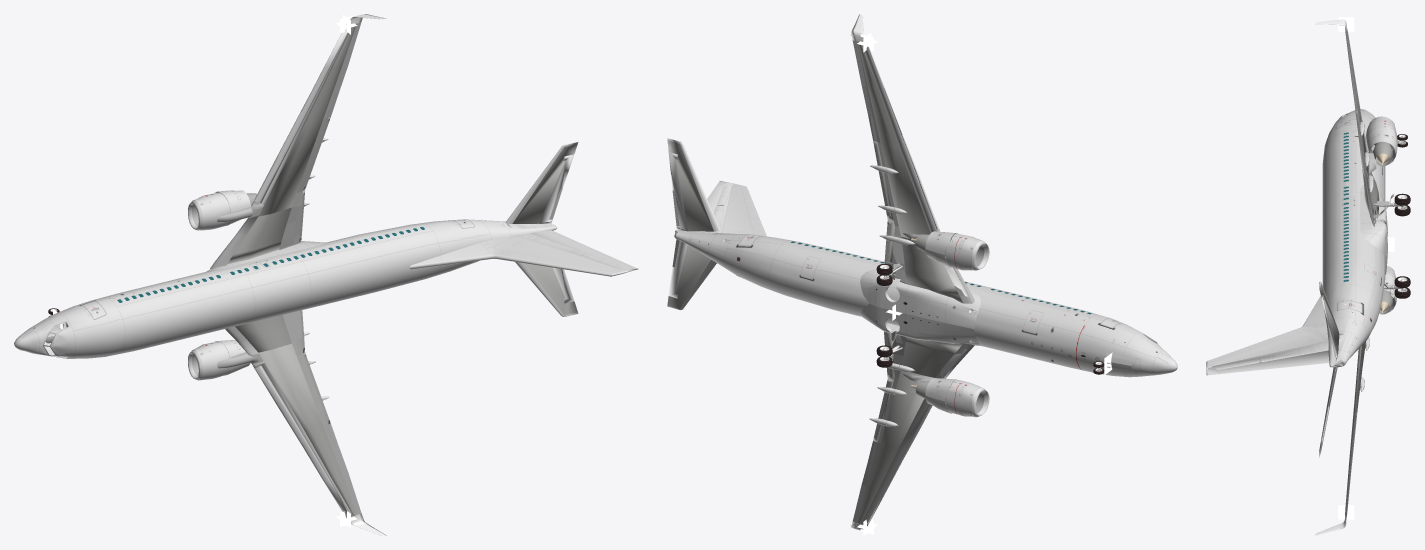
3 views of the same model, side by side, from view 1: azimuth 30°, elevation 25°; view 2: azimuth 150°, elevation 25°; view 3: azimuth 270°, elevation 25° (orthographic). The views are drawn at different scales.
Visible parts, largest first — view 1: fuselage, obwing, vstab, obwing.001, rhstab, winginbd.001, winginbd, lhstab, vstable, engnose.001, No2engfancase, rudder (+1 smaller); view 2: fuselage, obwing.001, rhwtobfairing, obwing, lhfairing, rhstab, vstab, winginbd.001, winginbd, lhstab, rhoble, oble (+6 smaller); view 3: fuselage, vstab, rudder, rhwtobfairing, No2reverser, windowsrh, obwing.001, obwing, winginbd.001, rhstab, No2engfancase, WingletL (+1 smaller).
Boxes of the visible parts, x1,y1,x2,y2 form: fuselage: (14,219,557,358); obwing: (259,343,356,515); vstab: (413,233,638,276); obwing.001: (258,24,356,216); rhstab: (505,142,578,223); winginbd.001: (227,207,291,263); winginbd: (235,315,291,352); lhstab: (515,262,578,316); vstable: (410,254,611,276); engnose.001: (192,341,230,380); No2engfancase: (193,192,230,230); rudder: (530,230,637,270); fuselage: (675,230,1177,377); obwing.001: (858,42,930,238); rhwtobfairing: (860,269,980,329); obwing: (858,371,933,523); lhfairing: (860,303,980,345); rhstab: (667,138,720,231); vstab: (707,181,765,236); winginbd.001: (901,236,962,303); winginbd: (902,337,962,377); lhstab: (667,245,716,310); rhoble: (854,40,940,232); oble: (852,398,929,525); fuselage: (1322,109,1385,367); vstab: (1206,296,1328,375); rudder: (1207,350,1328,375); rhwtobfairing: (1360,185,1387,257); No2reverser: (1367,127,1397,165); windowsrh: (1343,132,1348,281); obwing.001: (1345,29,1368,178); obwing: (1345,346,1361,515); winginbd.001: (1362,167,1379,215); rhstab: (1319,281,1339,352); No2engfancase: (1365,116,1397,140); WingletL: (1315,19,1346,535).
Size of the model in its own units: 39.42 by 35.69 by 12.93.
Materials: 87 (24 with a texture image).
